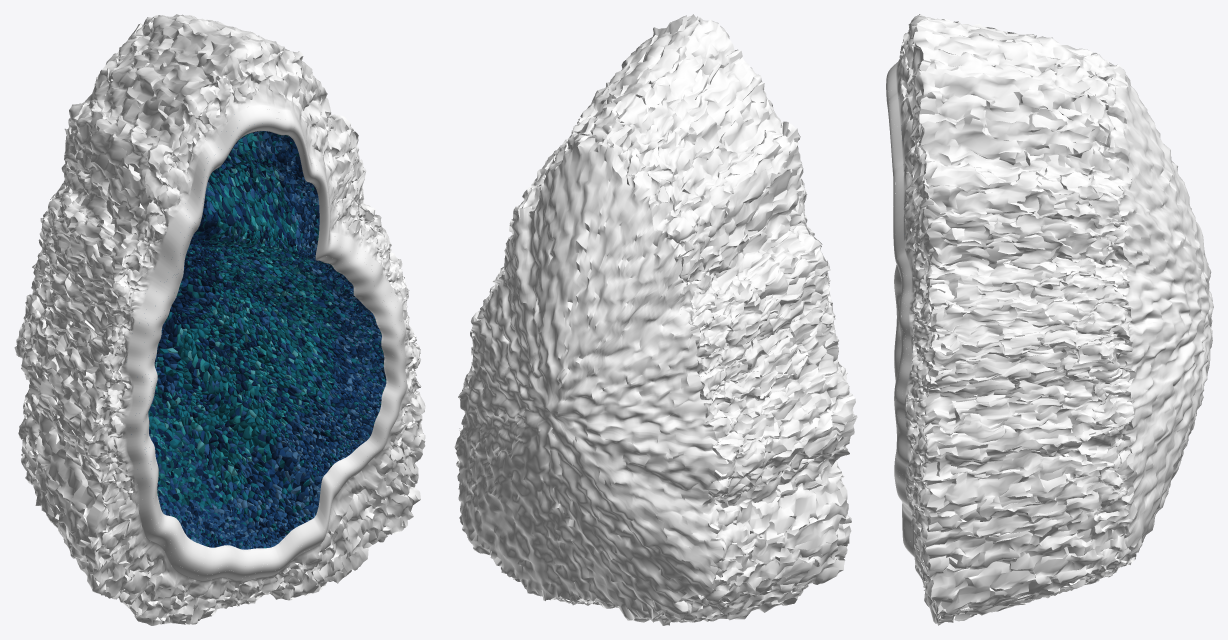
Rendered from geode.glb.
3 views of the same model, side by side, from view 1: azimuth 30°, elevation 25°; view 2: azimuth 150°, elevation 25°; view 3: azimuth 270°, elevation 25° (orthographic).
Visible parts, largest first — view 1: Geode body.001; view 2: Geode body.001; view 3: Geode body.001.
Part boxes in pixels (x1,y1,x2,y2): Geode body.001: (14, 14, 425, 625); Geode body.001: (454, 14, 857, 625); Geode body.001: (886, 14, 1213, 625).
Size of the model in its own units: 0.4931 by 0.8025 by 0.4208.
